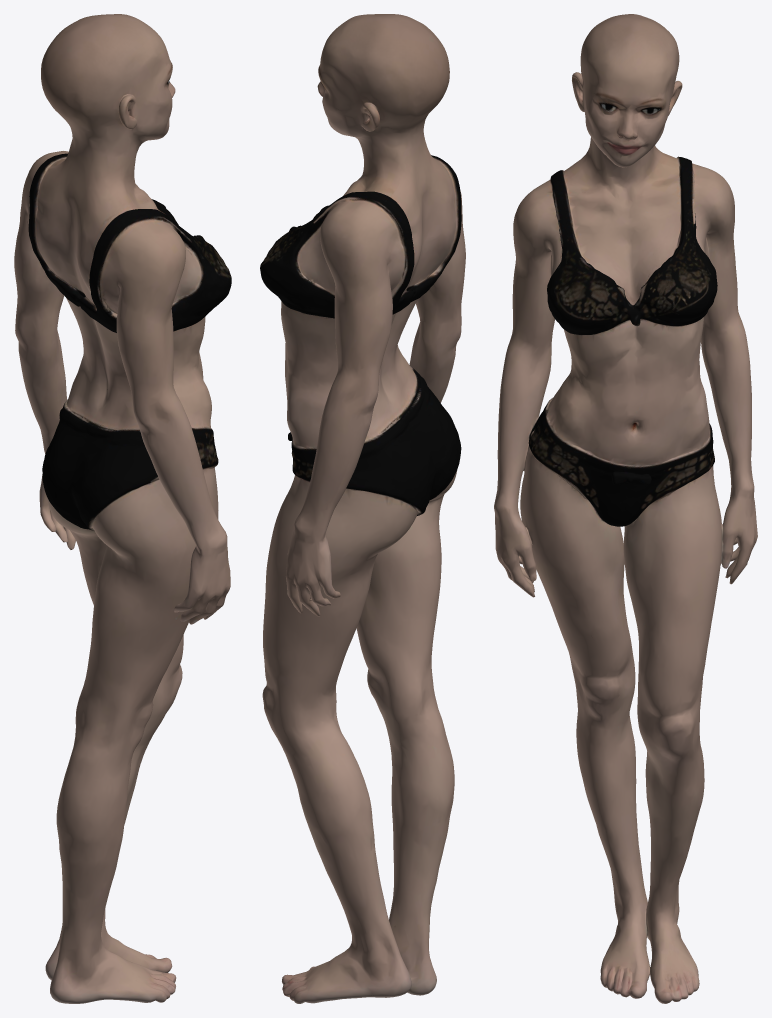
Rendered from womenmodel.glb.
The picture shows the model from 3 angles, left to right: view 1: azimuth 30°, elevation 25°; view 2: azimuth 150°, elevation 25°; view 3: azimuth 270°, elevation 25°; orthographic projection. The views are drawn at different scales.
Visible parts, largest first — view 1: tripo_node_1cac8cf7-54f5-49f0-98c2-c4f3b98024cc; view 2: tripo_node_1cac8cf7-54f5-49f0-98c2-c4f3b98024cc; view 3: tripo_node_1cac8cf7-54f5-49f0-98c2-c4f3b98024cc.
Part boxes in pixels (<box>): tripo_node_1cac8cf7-54f5-49f0-98c2-c4f3b98024cc: <box>14,14,231,1003</box>; tripo_node_1cac8cf7-54f5-49f0-98c2-c4f3b98024cc: <box>260,14,465,1003</box>; tripo_node_1cac8cf7-54f5-49f0-98c2-c4f3b98024cc: <box>494,14,757,1003</box>.
Bounding box in the file's own units: 0.1652 × 1 × 0.2525.
1 material, 1 textured.
